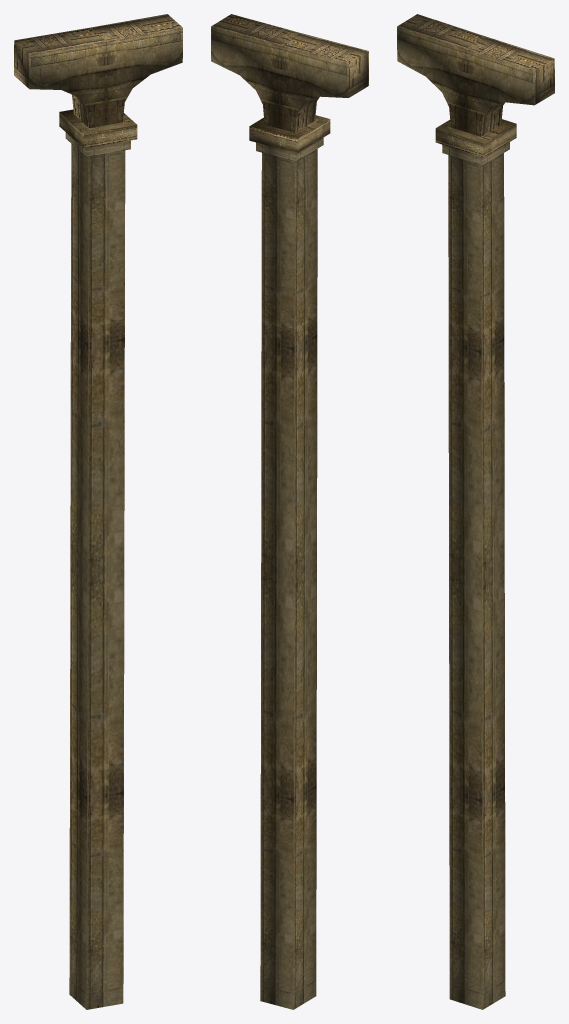
Rendered from S_Build_Wilderness004.FBX.
The picture shows the model from 3 angles, left to right: view 1: azimuth 30°, elevation 25°; view 2: azimuth 150°, elevation 25°; view 3: azimuth 330°, elevation 25°; orthographic projection.
Visible parts, largest first — view 1: S_Build_Wilderness004; view 2: S_Build_Wilderness004; view 3: S_Build_Wilderness004.
Part boxes in pixels (left/top/right/bottom): S_Build_Wilderness004: left=14, top=14, right=182, bottom=1009; S_Build_Wilderness004: left=211, top=14, right=368, bottom=1009; S_Build_Wilderness004: left=397, top=14, right=554, bottom=1009.
Bounding box in the file's own units: 581 × 214 × 3619.
